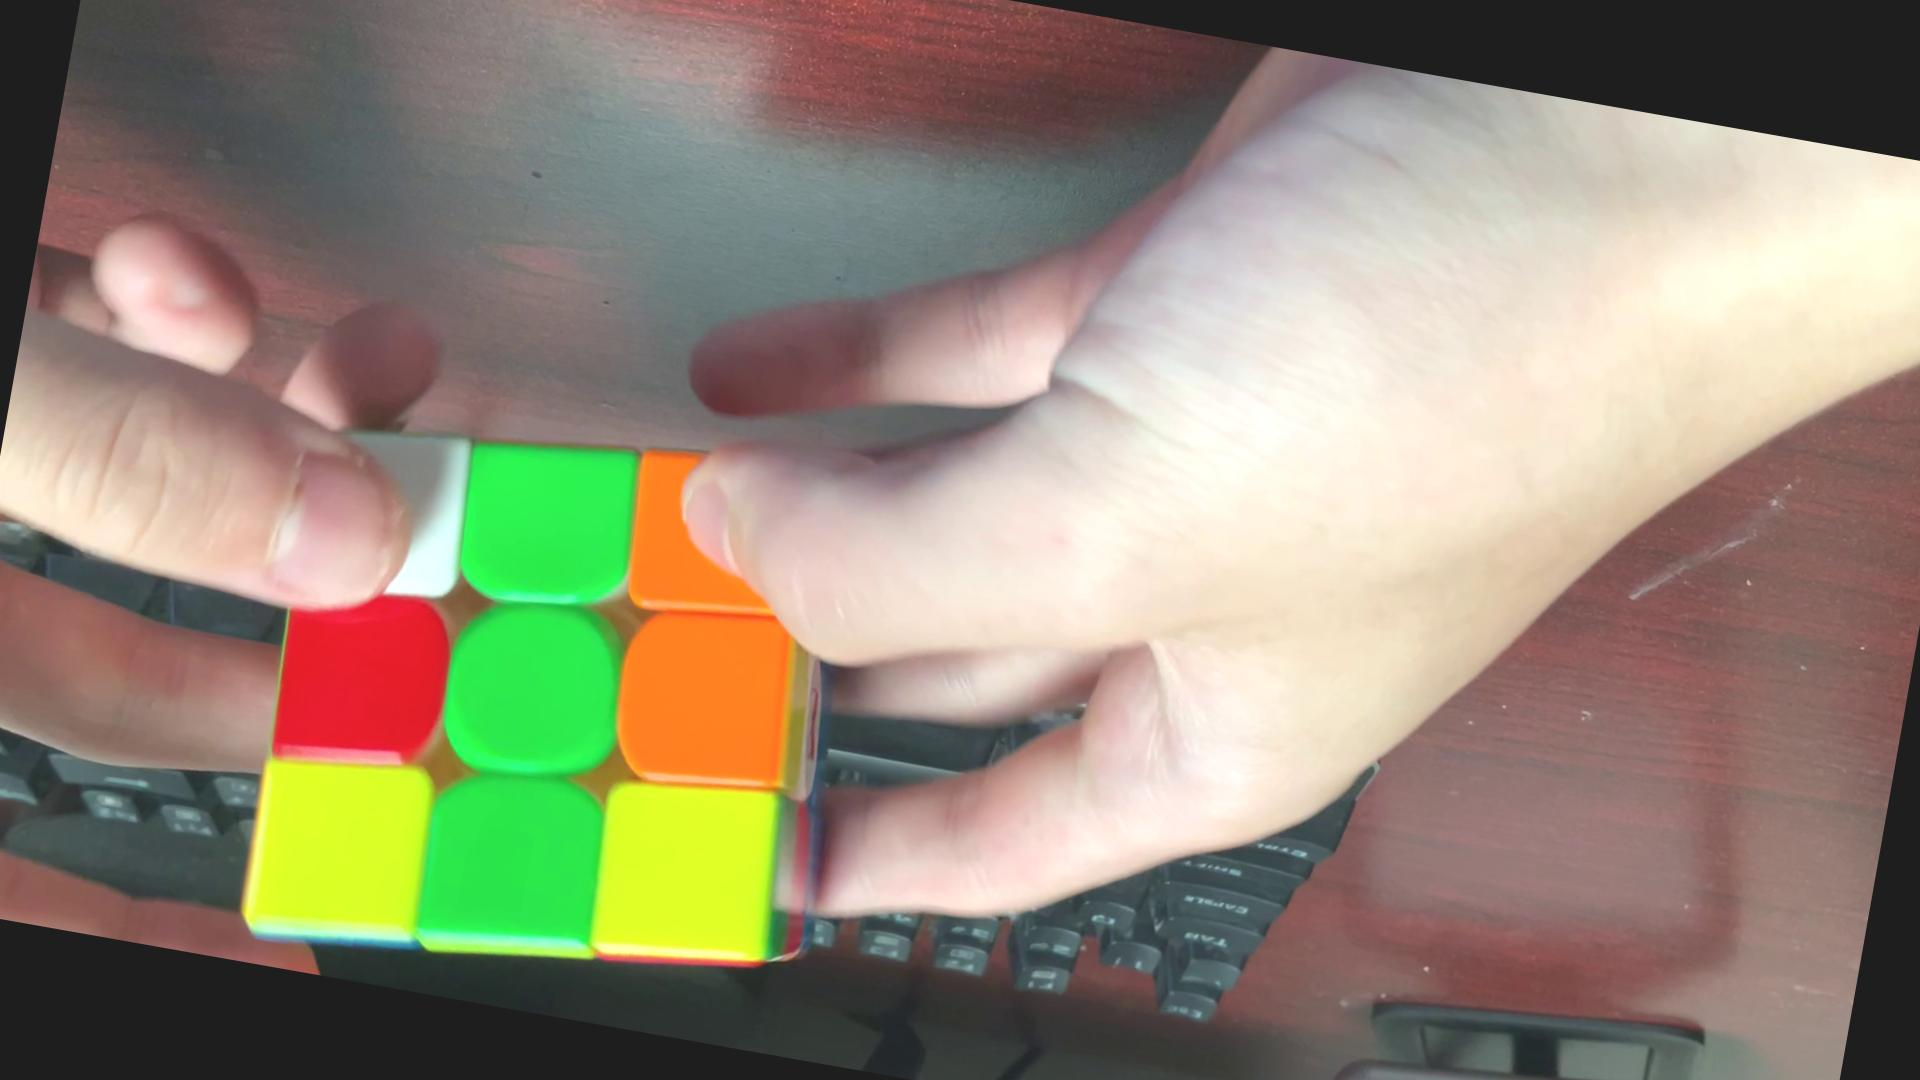Rubiks-Cube: (194, 377, 904, 1046)
